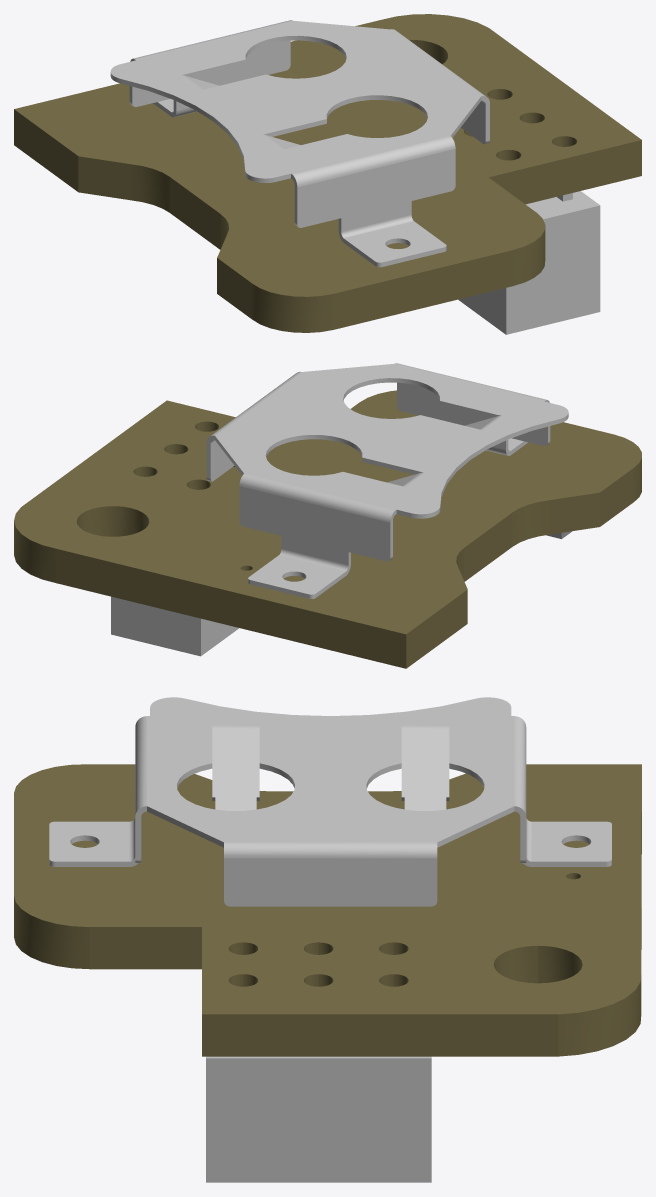
Rendered from ada-3386.glb.
3 renders of one model, top to bottom at view 1: azimuth 30°, elevation 25°; view 2: azimuth 150°, elevation 25°; view 3: azimuth 270°, elevation 25°, orthographic. The views are drawn at different scales.
Parts seen in each view (by area): view 1: 0.16666666666666666_0.16666666666666666_0.08333333333333333_, 0.5833333333333334_0.5833333333333334_0.5833333333333334_0.8; view 2: 0.16666666666666666_0.16666666666666666_0.08333333333333333_, 0.5833333333333334_0.5833333333333334_0.5833333333333334_0.8; view 3: 0.16666666666666666_0.16666666666666666_0.08333333333333333_, 0.5833333333333334_0.5833333333333334_0.5833333333333334_0.8.
Part boxes in pixels (box(x1,y1,x2,y2)): 0.16666666666666666_0.16666666666666666_0.08333333333333333_: box(14, 14, 641, 332); 0.5833333333333334_0.5833333333333334_0.5833333333333334_0.8: box(110, 20, 600, 334); 0.16666666666666666_0.16666666666666666_0.08333333333333333_: box(14, 390, 641, 668); 0.5833333333333334_0.5833333333333334_0.5833333333333334_0.8: box(111, 363, 568, 656); 0.16666666666666666_0.16666666666666666_0.08333333333333333_: box(14, 764, 641, 1056); 0.5833333333333334_0.5833333333333334_0.5833333333333334_0.8: box(49, 697, 611, 1182).
Size of the model in its own units: 2 by 1.03 by 2.12.
